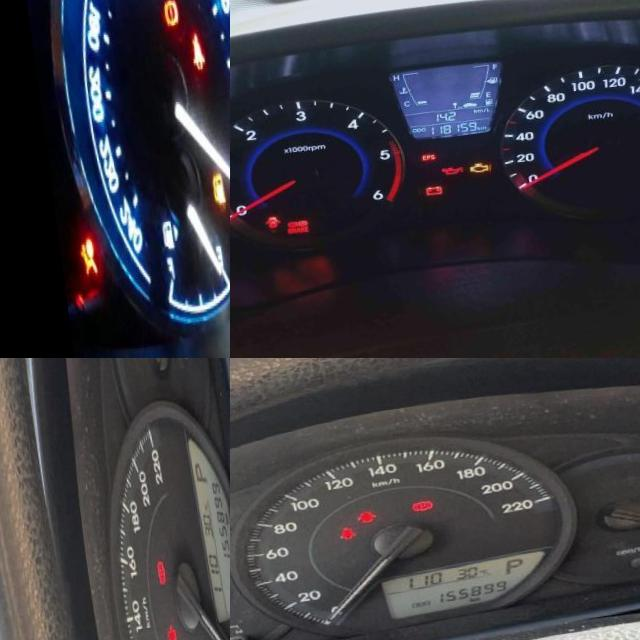Seat Belt: (178, 36, 198, 77), (332, 535, 349, 550)
